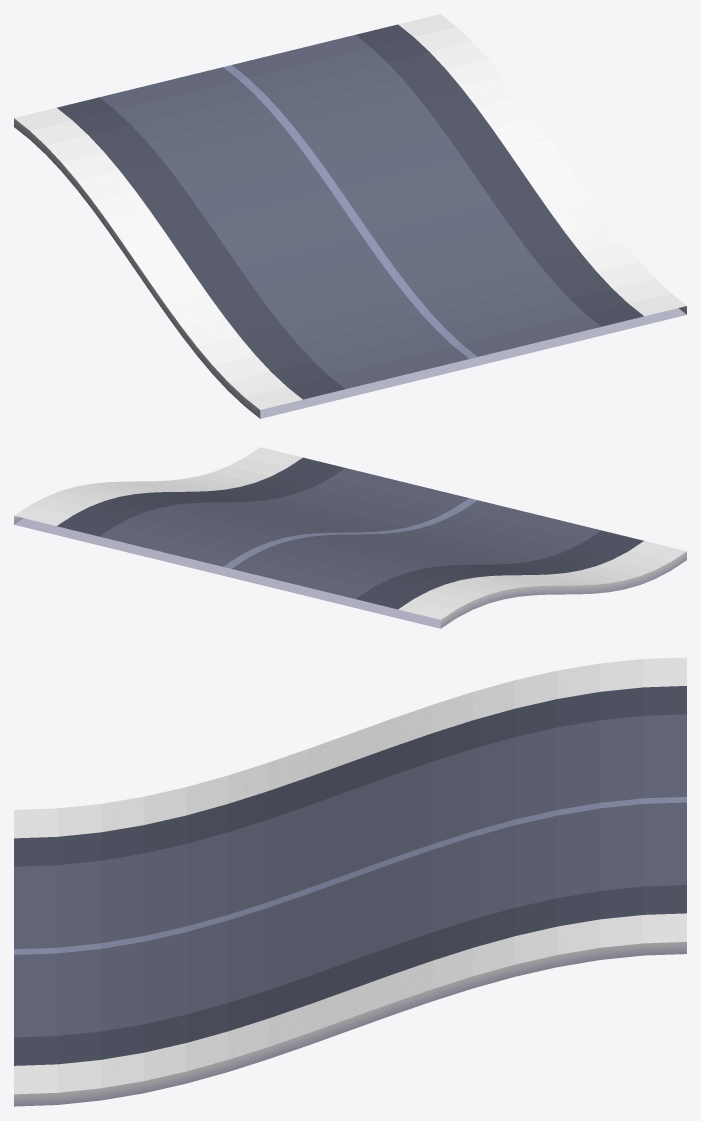
File: road-Straight-Flat-Flat-Up1-Center-Size1.glb
The picture shows the model from 3 angles, top to bottom: view 1: azimuth 30°, elevation 25°; view 2: azimuth 150°, elevation 25°; view 3: azimuth 270°, elevation 25°; orthographic projection. The views are drawn at different scales.
Parts seen in each view (by area): view 1: road-Straight-Flat-Flat-Up1-Center-Size1; view 2: road-Straight-Flat-Flat-Up1-Center-Size1; view 3: road-Straight-Flat-Flat-Up1-Center-Size1.
Boxes of the visible parts, <box> form: road-Straight-Flat-Flat-Up1-Center-Size1: <box>14,14,686,418</box>; road-Straight-Flat-Flat-Up1-Center-Size1: <box>14,447,686,628</box>; road-Straight-Flat-Flat-Up1-Center-Size1: <box>14,657,686,1106</box>.
Bounding box in the file's own units: 1 × 0.27 × 1.
Materials: 1 (1 with a texture image).
